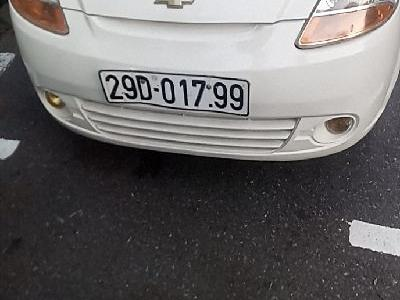lisence: (98, 69, 251, 120)
